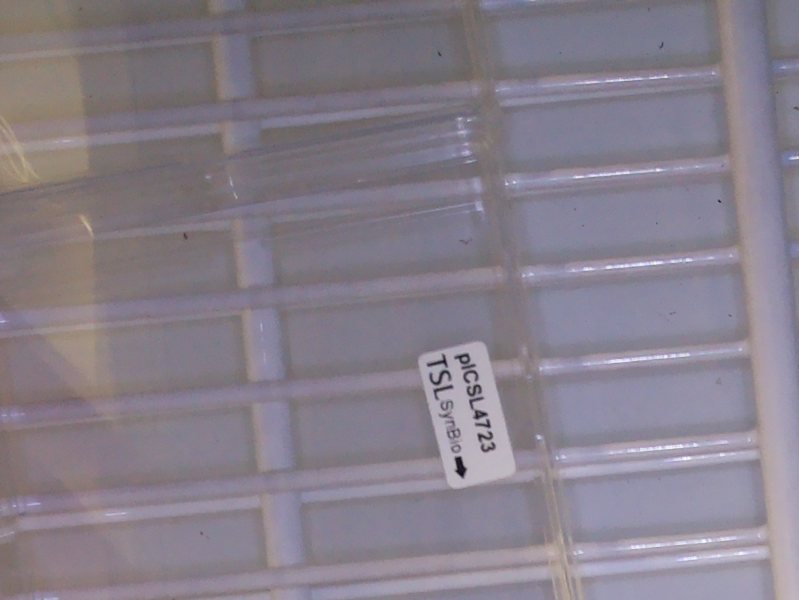plate: (1, 1, 587, 600)
